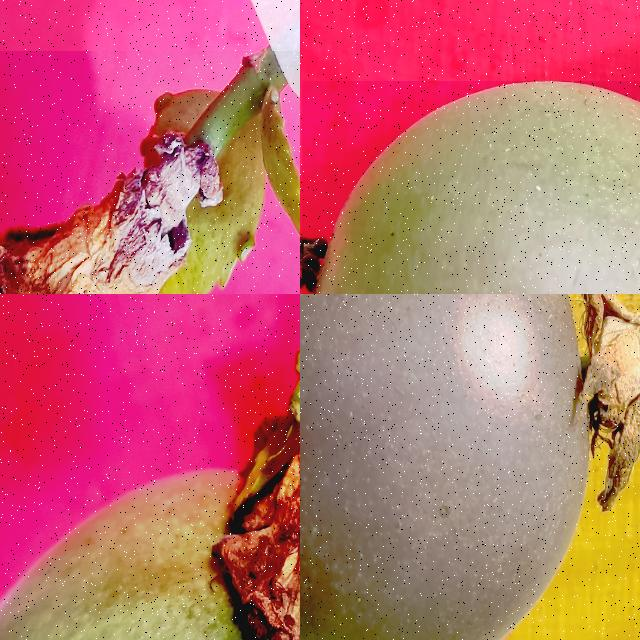Estado-1: (0, 350, 300, 640)
Estado-2: (0, 51, 300, 294)
Estado-3: (311, 81, 640, 294)
Estado-5: (300, 294, 640, 640)
